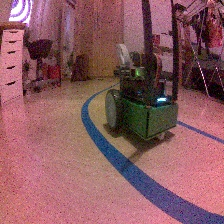rob: (104, 43, 179, 142)
